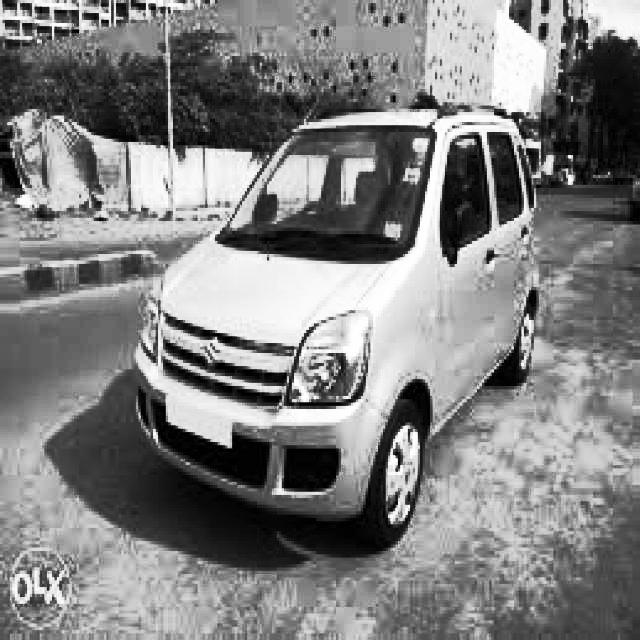Car: (135, 97, 539, 541)
